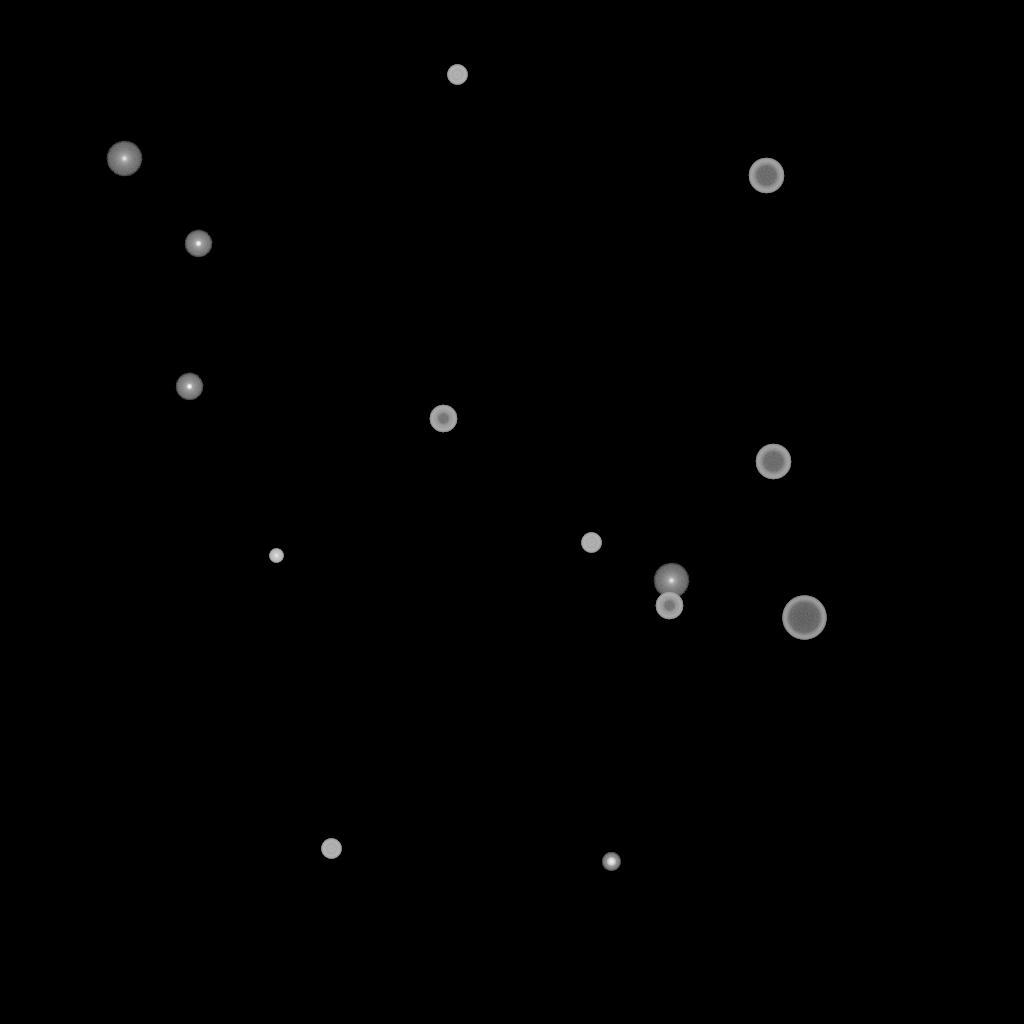depth:-10: (175, 373, 203, 401), (184, 230, 212, 258)
depth:-20: (602, 853, 620, 871)
depth:-30: (269, 549, 283, 563)
depth:-40: (447, 65, 467, 85), (321, 839, 341, 859), (581, 533, 601, 553)
depth:-50: (429, 405, 457, 433), (655, 592, 683, 620)
depth:-60: (748, 158, 784, 194), (755, 444, 791, 480)
depth:-70: (782, 596, 826, 640)
depth:0: (653, 563, 689, 599), (106, 141, 142, 177)
